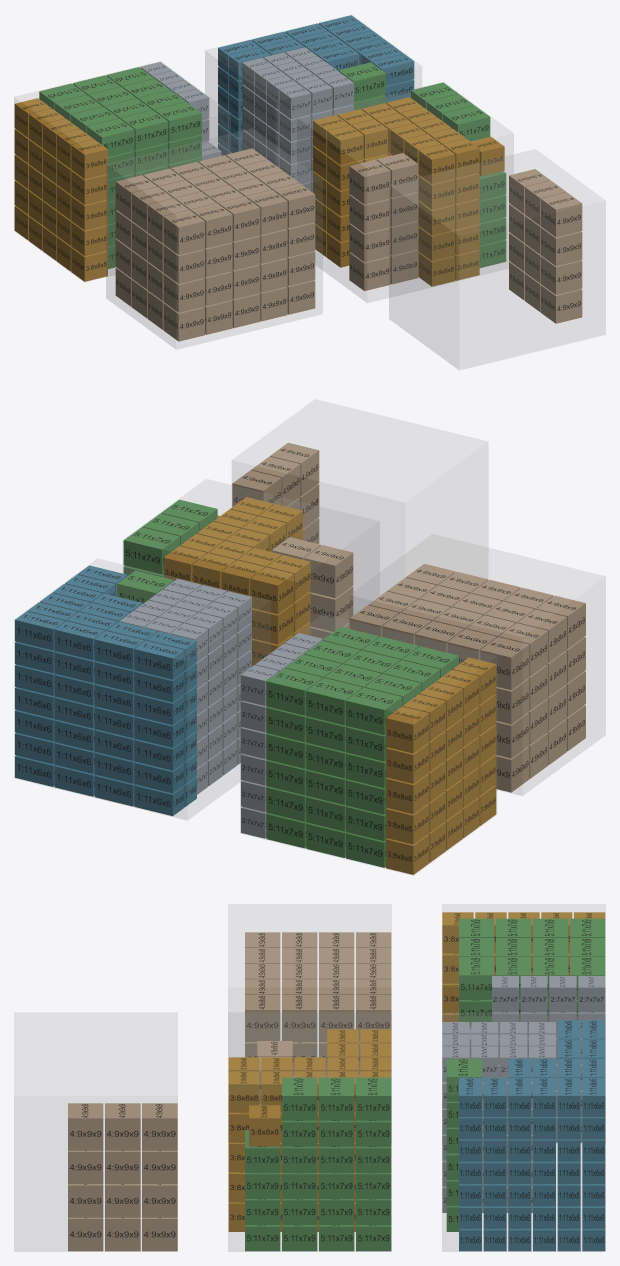
The model's file is rsj_3d_packer.glb.
3 views of the same model, one above another, from view 1: azimuth 30°, elevation 25°; view 2: azimuth 150°, elevation 25°; view 3: azimuth 270°, elevation 25° (orthographic). The views are drawn at different scales.
Parts seen in each view (by area): view 1: containerundefined_4, containerundefined_3, containerundefined_2, containerundefined_1, containerundefined_0, box3_504, box3_412, box3_492, box4_280, box3_503, box3_501, box3_502 (+106 smaller); view 2: containerundefined_1, containerundefined_0, containerundefined_3, containerundefined_4, containerundefined_2, box3_412, box4_313, box4_228, box3_444, box4_216, box4_222, box2_233 (+120 smaller); view 3: containerundefined_0, containerundefined_2, containerundefined_4, containerundefined_3, containerundefined_1, box3_496, box3_500, box3_504, box3_424, box3_428, box4_313, box4_319 (+138 smaller).
Part boxes in pixels (box(x1,y1,x2,y2)): containerundefined_4: box(389, 149, 605, 369); containerundefined_3: box(106, 129, 322, 349); containerundefined_2: box(297, 82, 513, 302); containerundefined_1: box(14, 61, 230, 281); containerundefined_0: box(205, 15, 421, 179); box3_504: box(540, 192, 582, 237); box3_412: box(349, 159, 390, 204); box3_492: box(163, 210, 204, 254); box4_280: box(120, 110, 168, 150); box3_503: box(540, 227, 582, 265); box3_501: box(540, 285, 582, 323); box3_502: box(540, 256, 582, 294); containerundefined_1: box(240, 614, 496, 875); containerundefined_0: box(14, 559, 270, 819); containerundefined_3: box(349, 534, 605, 795); containerundefined_4: box(232, 399, 487, 594); containerundefined_2: box(123, 479, 379, 665); box3_412: box(304, 545, 353, 598); box4_313: box(123, 527, 179, 574); box4_228: box(346, 687, 402, 734); box3_444: box(480, 637, 529, 690); box4_216: box(266, 668, 322, 715); box4_222: box(306, 678, 362, 725); box2_233: box(386, 706, 429, 753); containerundefined_0: box(442, 1013, 605, 1251); containerundefined_2: box(228, 1013, 391, 1251); containerundefined_4: box(14, 1013, 177, 1251); containerundefined_3: box(228, 904, 391, 1076); containerundefined_1: box(442, 904, 605, 1142); box3_496: box(142, 1103, 177, 1150); box3_500: box(105, 1103, 140, 1150); box3_504: box(68, 1103, 103, 1150); box3_424: box(282, 995, 317, 1041); box3_428: box(245, 995, 280, 1041); box4_313: box(356, 1077, 391, 1120); box4_319: box(319, 1077, 354, 1120).
Bounding box in the file's own units: 110 × 41.9 × 144.
Materials: 10 (5 with a texture image).
